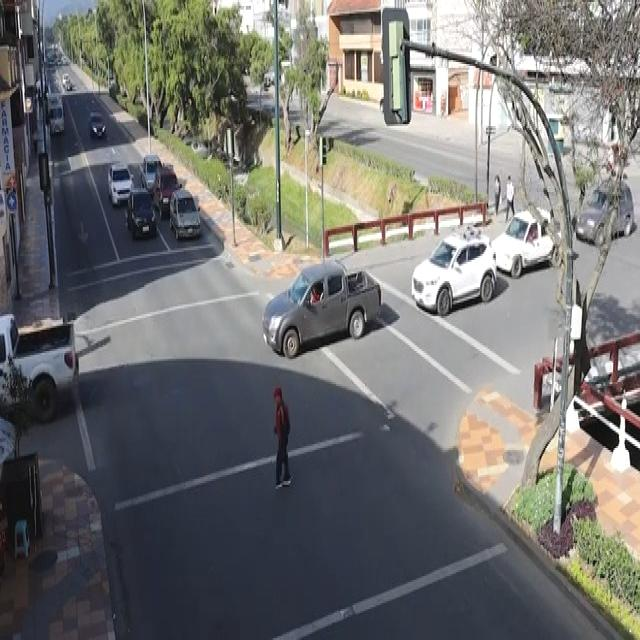CMT: (267, 262, 384, 356)
SUV: (410, 224, 500, 318)
